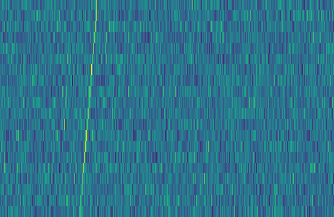signal: (74, 0, 100, 217)
